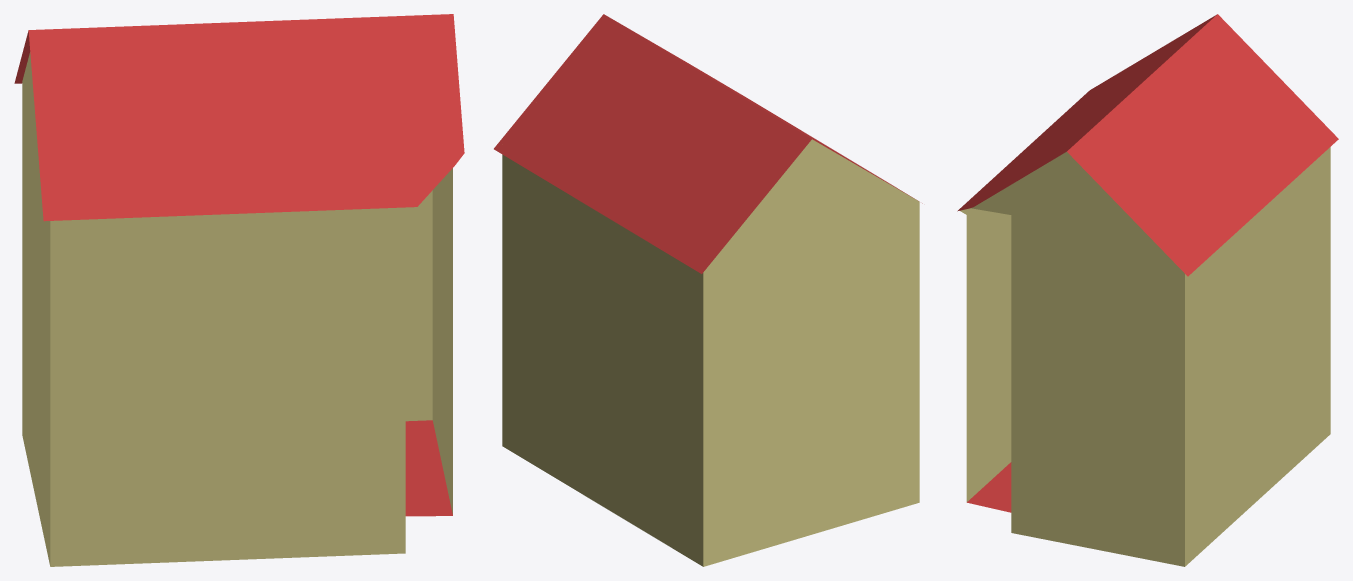
3 renders of one model, left to right at view 1: azimuth 30°, elevation 25°; view 2: azimuth 150°, elevation 25°; view 3: azimuth 270°, elevation 25°, orthographic. The views are drawn at different scales.
Bounding box in the file's own units: 17.67 × 15.3 × 17.46.
